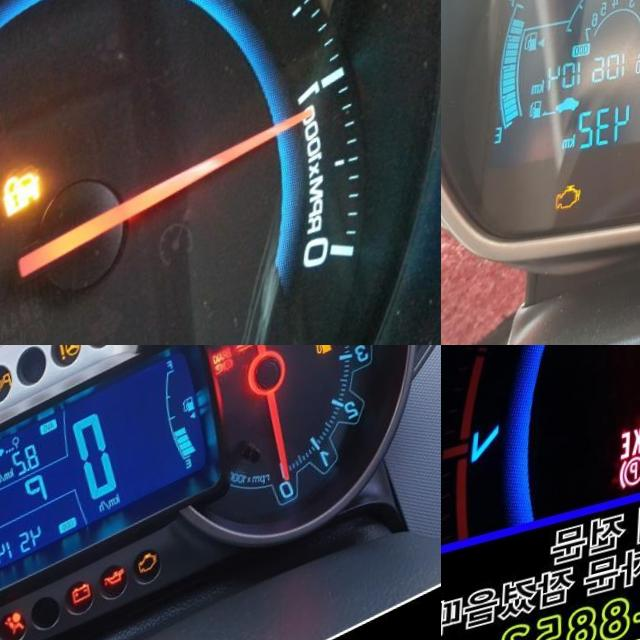Doors: (262, 345, 283, 366)
Engine cooling system: (236, 345, 261, 375)
Low fuel level: (318, 355, 338, 384)
